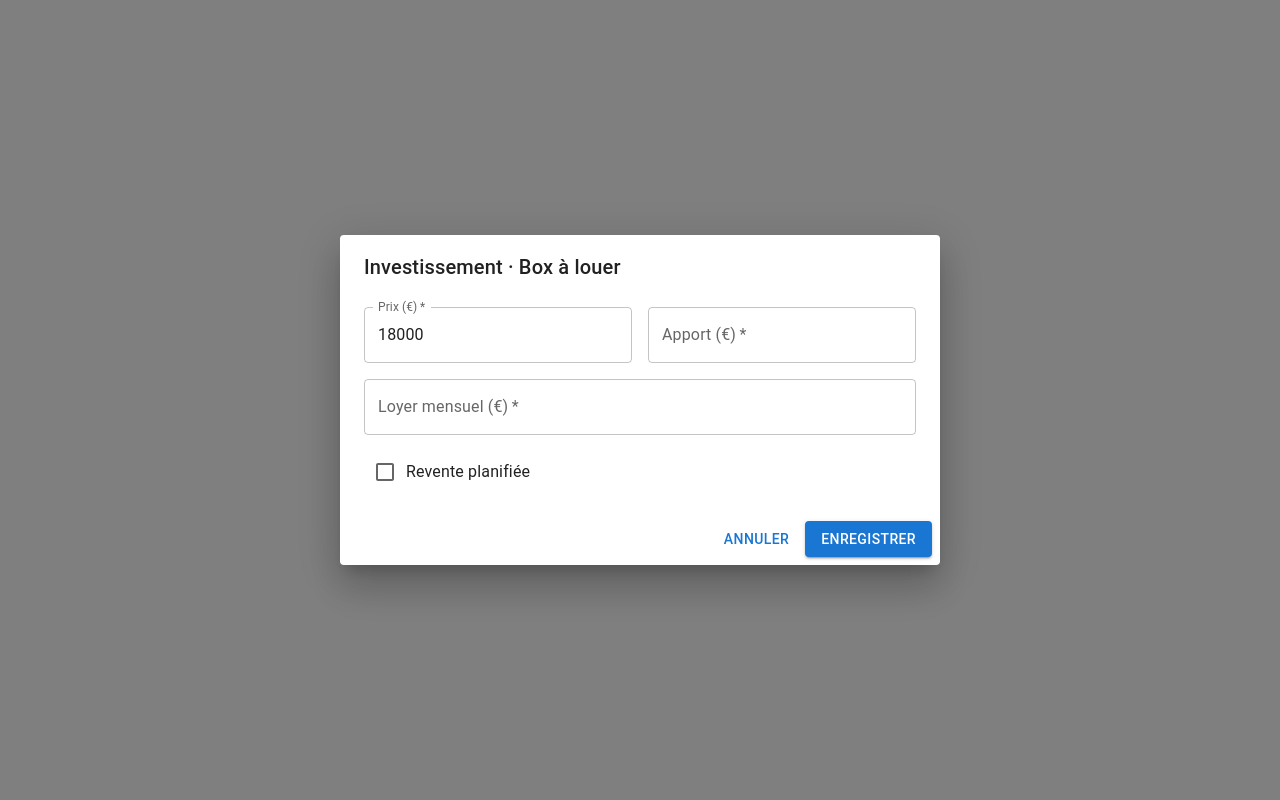
InvestmentDialog › sends nothing and says what is missing
Type "3000" into the field labelled "Apport (€) *" at (782, 335), box x1=648 y1=307 x2=916 y2=363
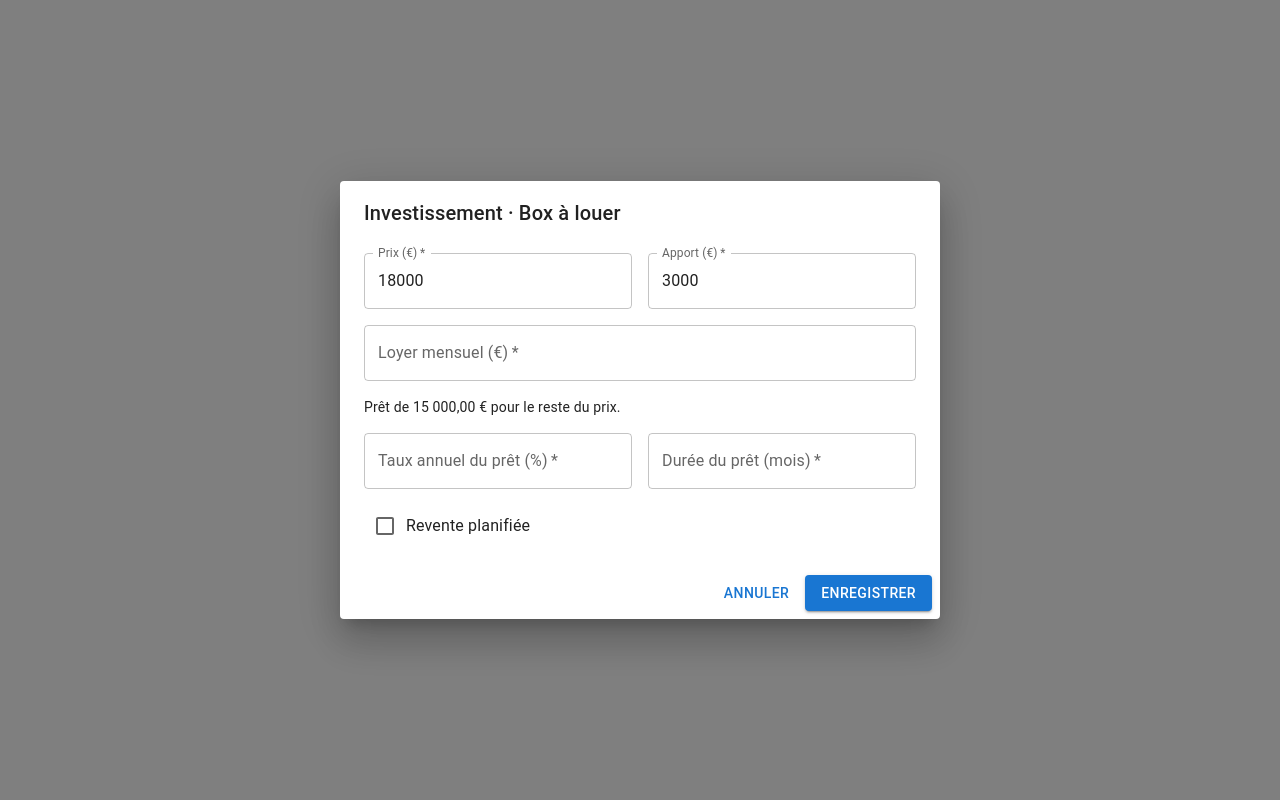
Click the button "Enregistrer" at (869, 593), box x1=805 y1=575 x2=932 y2=611
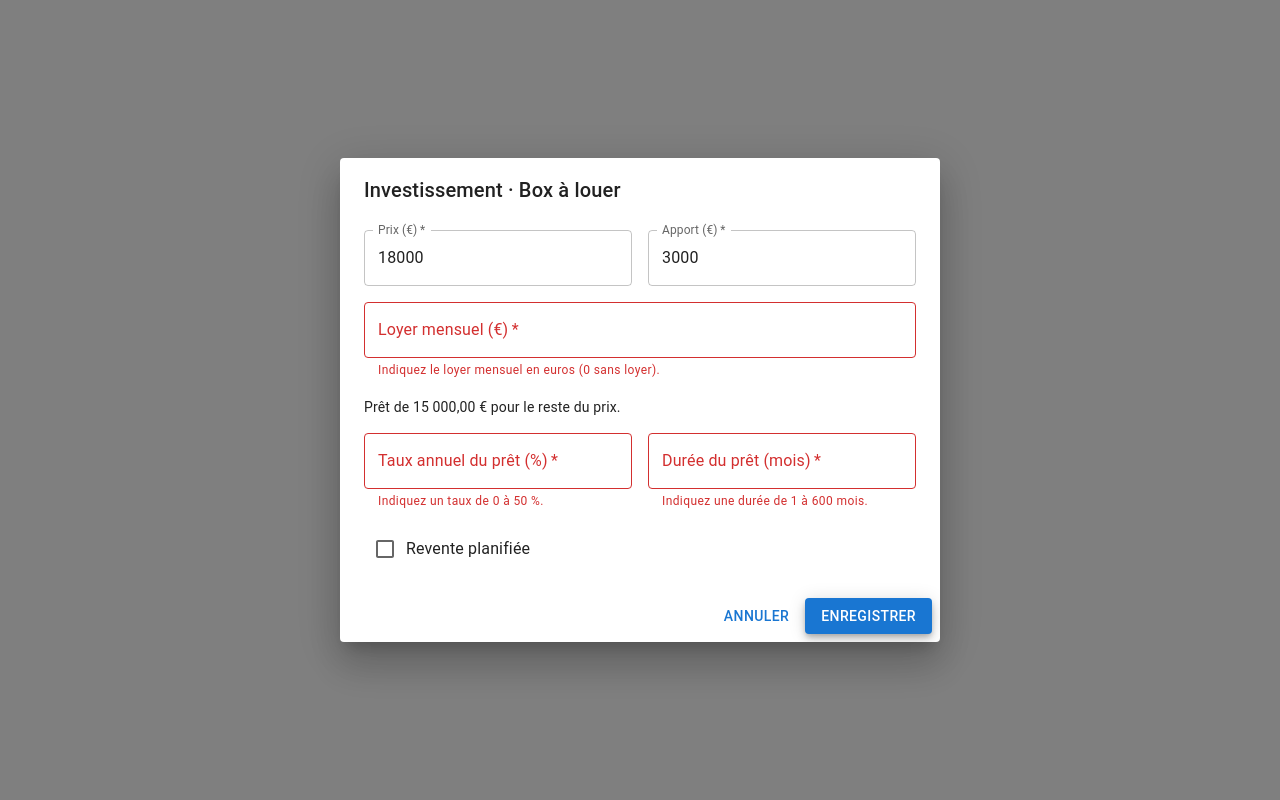
Now the text "Indiquez un taux de 0 à 50 %." is shown, box x1=378 y1=494 x2=544 y2=508
Now the text "Indiquez une durée de 1 à 600 mois." is shown, box x1=662 y1=492 x2=902 y2=512
Now the text "Indiquez le loyer mensuel en euros (0 sans loyer)." is shown, box x1=378 y1=363 x2=660 y2=377
